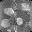people: (0, 18, 12, 28), (4, 7, 15, 17), (16, 17, 23, 26)
